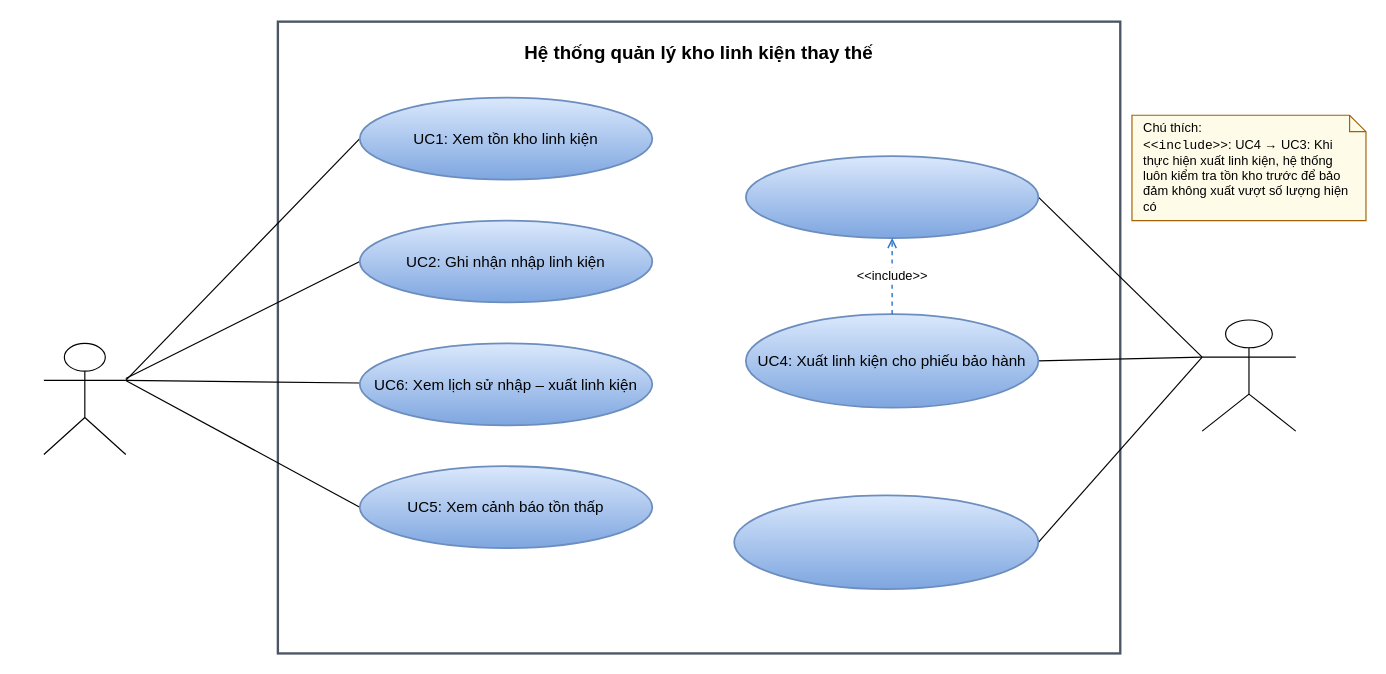
This 1386x674 diagram has some shape labels left out. The centre of each missing label's shape, as x and y in pixels:
"Kỹ thuật viên" goes at [1248,375].
"Quản lý trung tâm" goes at [84,398].
"UC3: Kiểm tra tồn kho linh kiện" goes at [891,196].
"UC7: Xem linh kiện đã xuất cho phiếu bảo hành" goes at [886,541].
